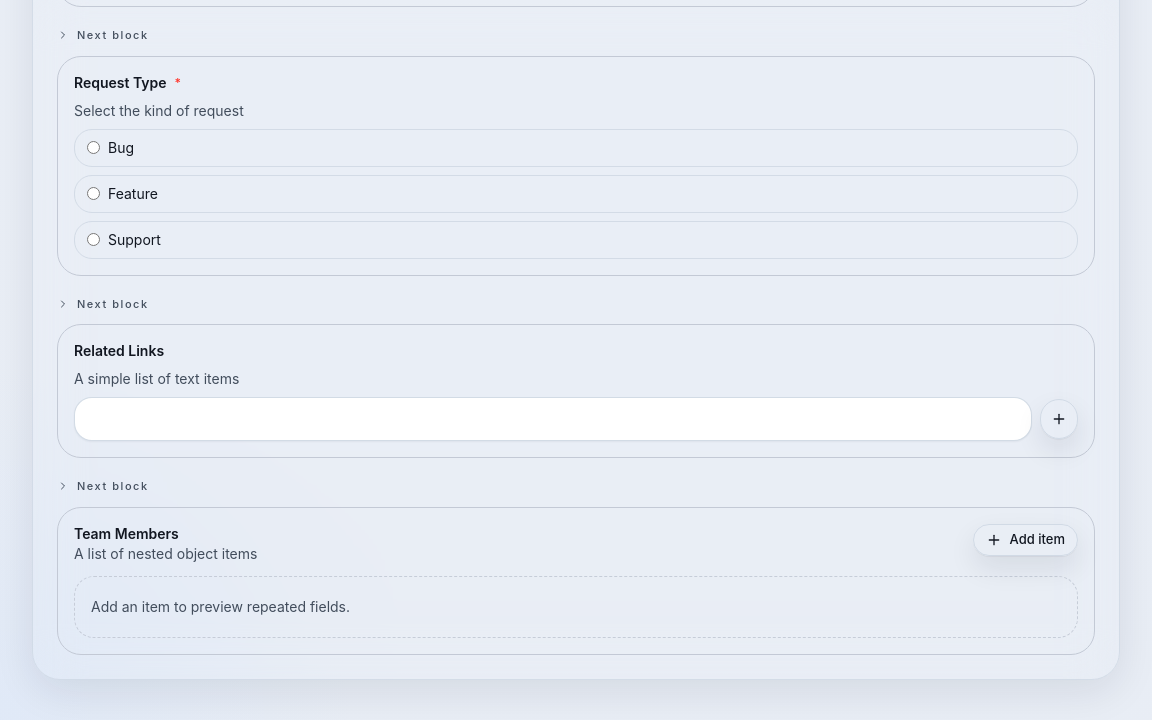
it: JsonSchemaFormBuilderApp › renders list-of-text preview fields with label and description
(page scrolled)
Expected: the text "Related Links" is shown, [74,341,164,361]
Expected: the text "A simple list of text items" is shown, [74,370,239,387]
Click the button named "Add Related Links item" at (1059, 419), box [1040,399,1078,439]
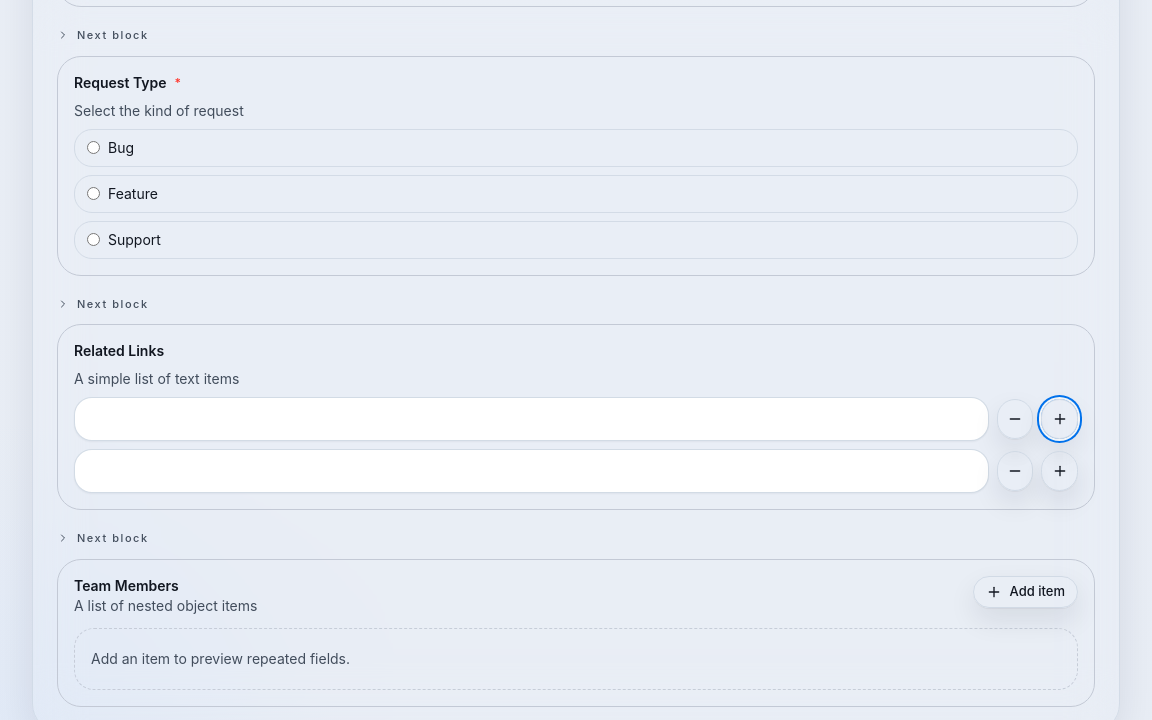
Now the field named "Related Links item 2" is shown, box [74,449,989,493]
